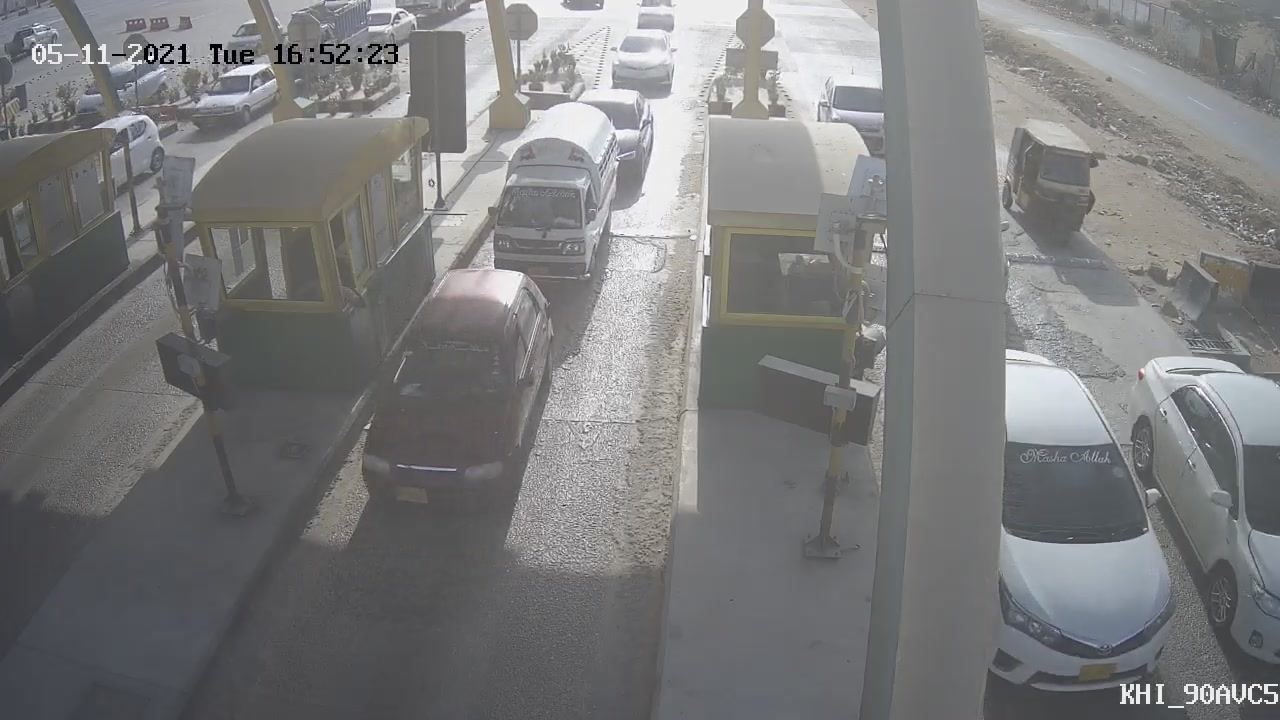F1: (352, 269, 569, 518), (461, 87, 637, 301)
